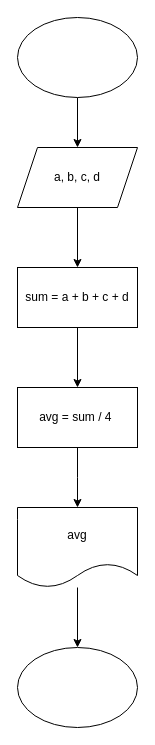
Image size: 155x745. Some labels were removed from this diagram. Here are the shapes that lost their labels. From the top down, the centre of each, then its label:
the point at 77,57: Начало
the point at 77,687: Конец
